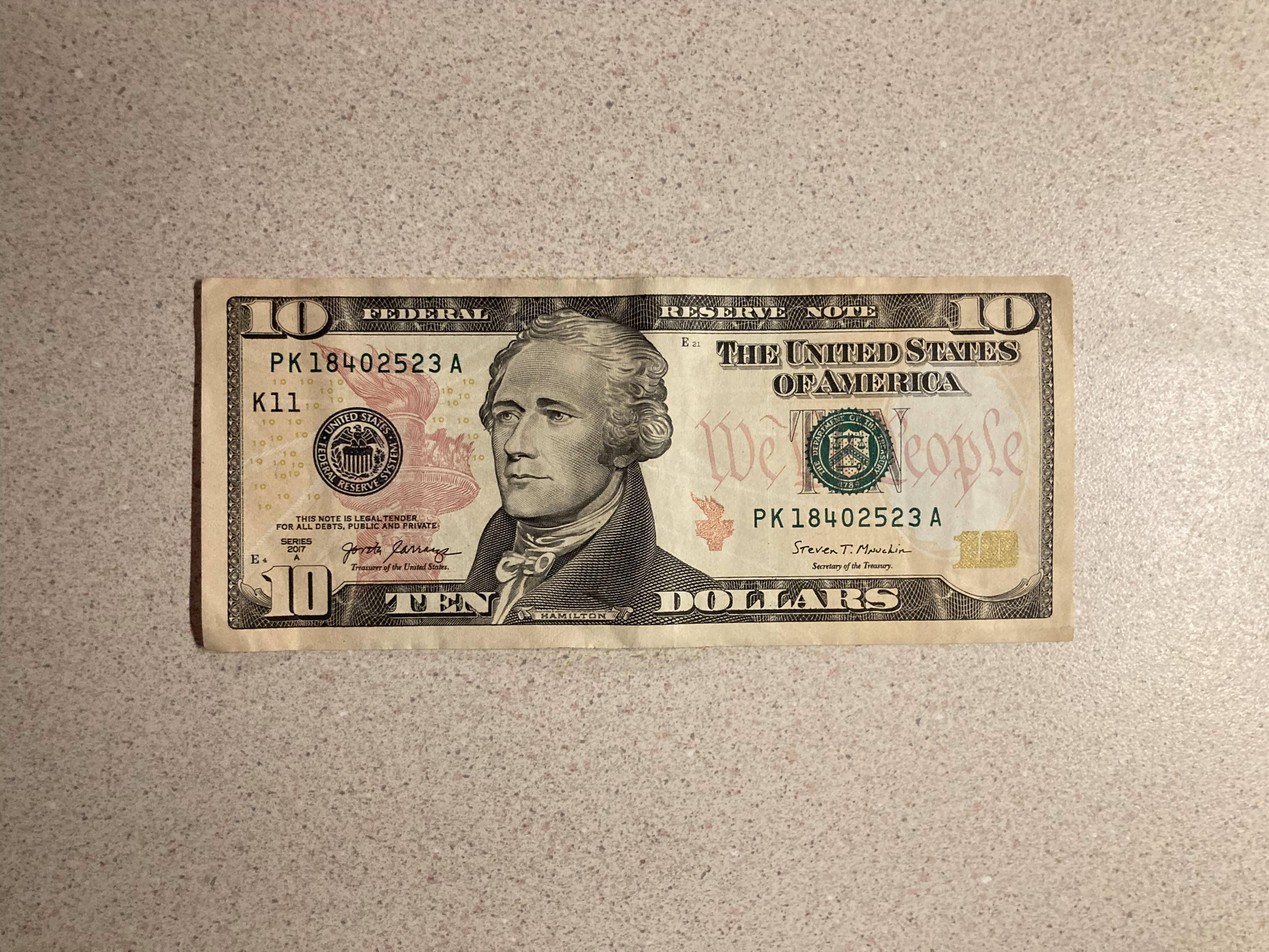ten-front: (199, 272, 1075, 652)
